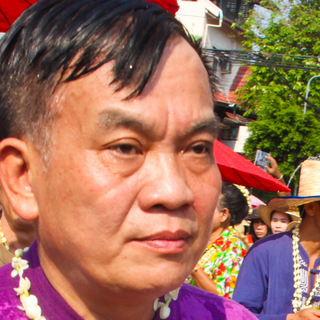eye: (92, 132, 150, 165), (177, 132, 215, 164)
